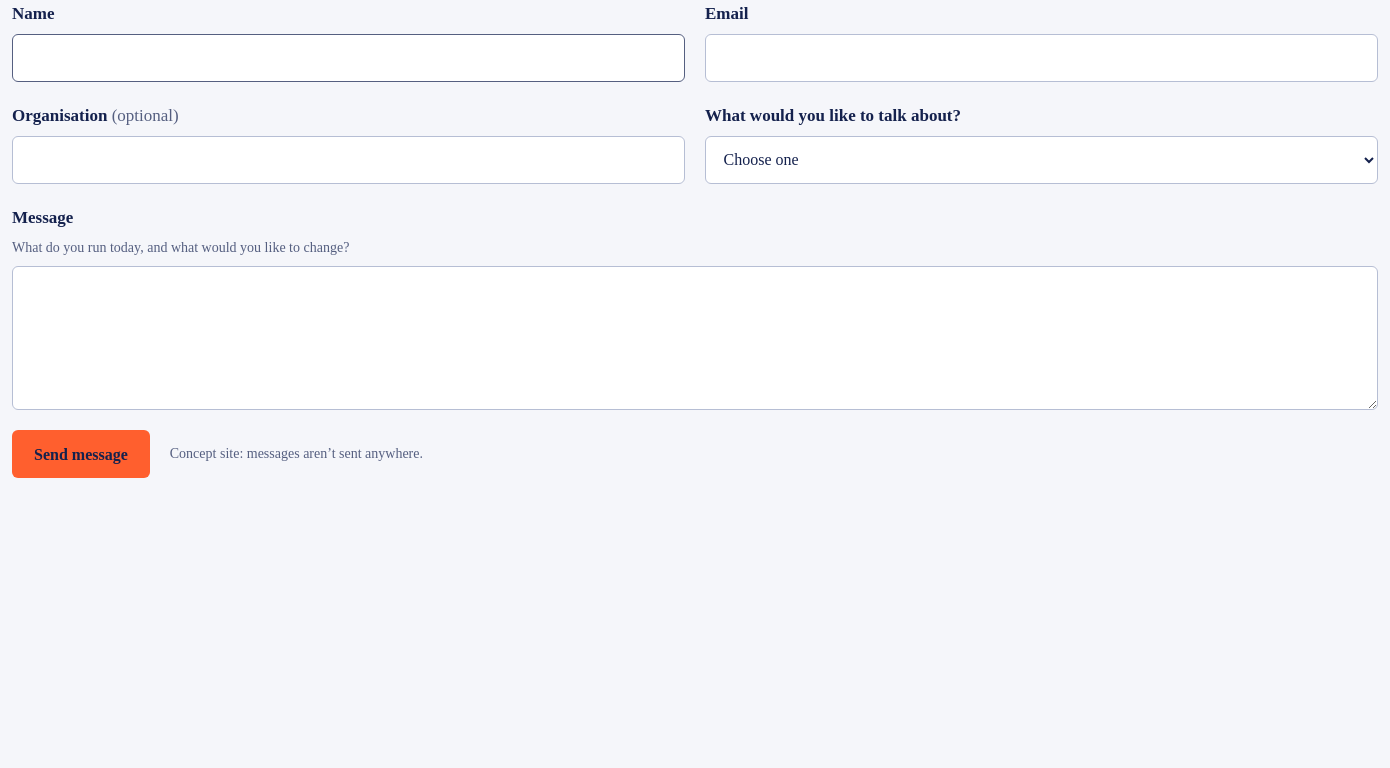
Test: <ContactForm /> › shows an error summary and marks invalid fields
Click the button "Send message": (81, 454) [12, 430, 150, 478]
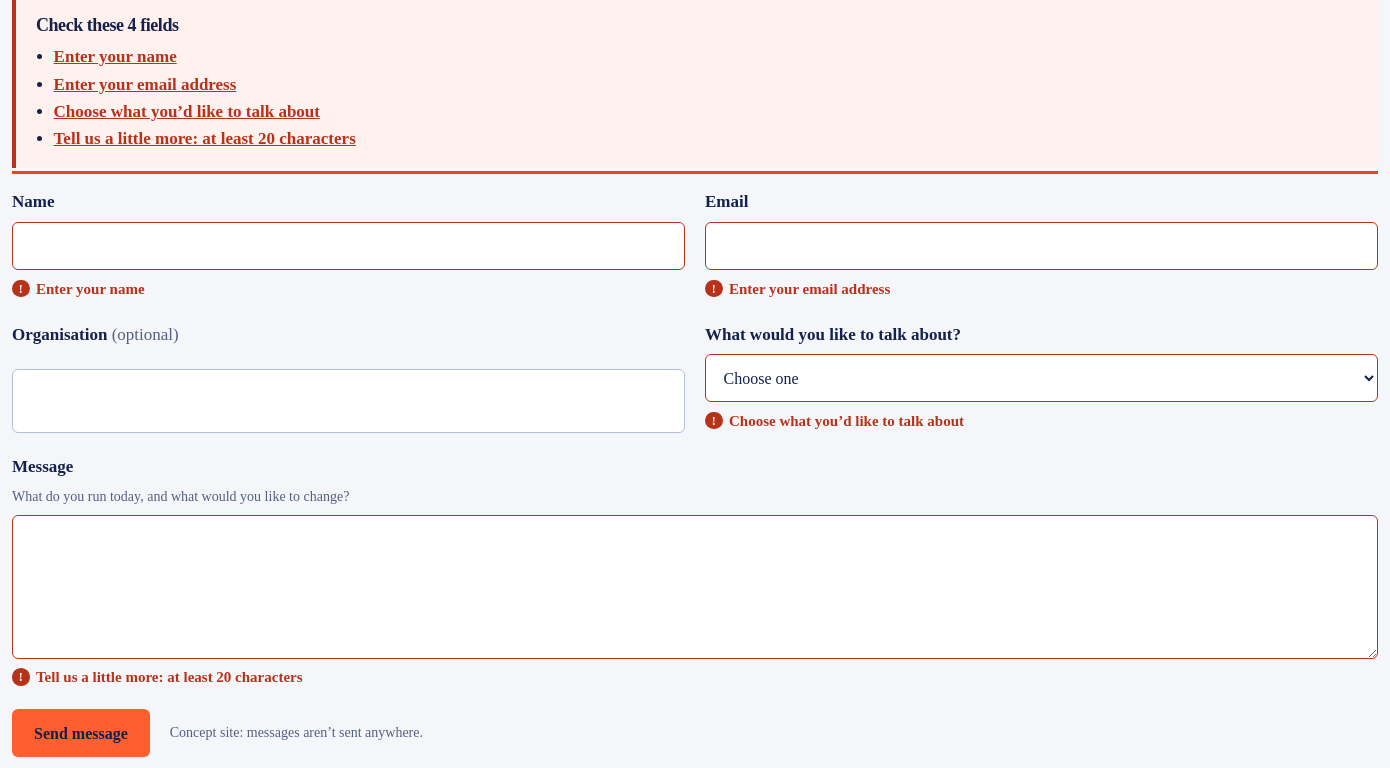
expect the message shows "Check these 4 fields": met, box [12, 0, 1378, 168]
